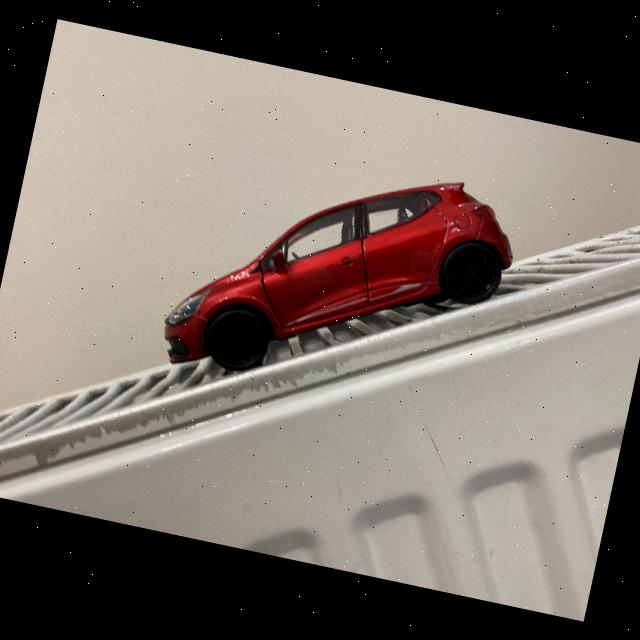Dogru_Jant: (208, 310, 268, 371), (442, 244, 500, 302)
